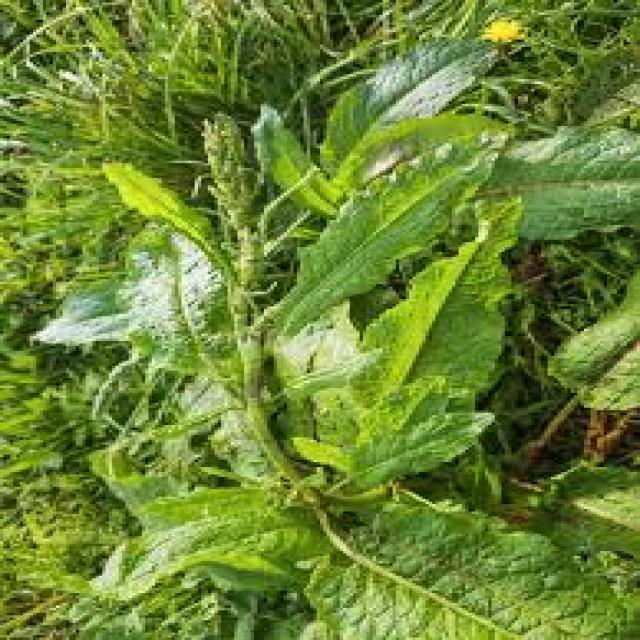organic waste: (43, 57, 640, 640)
